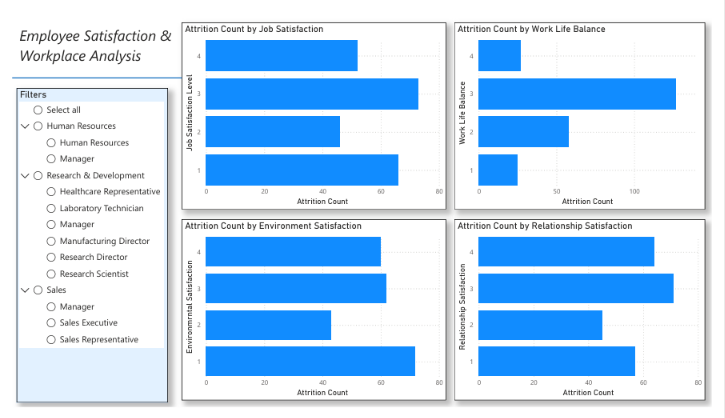

Layout of this report page (visuals, bound fields, positions):
{"tool":"powerbi","page":{"name":"Employee Satisfaction & Workplace Analysis","canvas":[1280,720],"ordinal":2},"visuals":[{"type":"clusteredBarChart","title":"Attrition Count by Job Satisfaction","fields":{"Category":["hr_analytics_db v_hr_analytics_data.JobSatisfaction"],"Y":["_Metrics.Attrition Count"]},"box":[310.5,17.2,483.6,342.2],"z":0},{"type":"clusteredBarChart","title":"Attrition Count by Work Life Balance","fields":{"Y":["_Metrics.Attrition Count"],"Category":["hr_analytics_db v_hr_analytics_data.WorkLifeBalance"]},"box":[808.6,17.2,459.8,342.2],"z":1},{"type":"clusteredBarChart","title":"Attrition Count by Environment Satisfaction","fields":{"Y":["_Metrics.Attrition Count"],"Category":["hr_analytics_db v_hr_analytics_data.EnvironmentSatisfaction"]},"box":[310.5,376.5,483.6,331.6],"z":2},{"type":"clusteredBarChart","title":"Attrition Count by Relationship Satisfaction","fields":{"Y":["_Metrics.Attrition Count"],"Category":["hr_analytics_db v_hr_analytics_data.RelationshipSatisfaction"]},"box":[808.6,376.5,459.8,331.6],"z":3},{"type":"listSlicer","title":"Filters","fields":{"Values":["hr_analytics_db v_hr_analytics_data.Department","hr_analytics_db v_hr_analytics_data.JobRole"]},"box":[7.9,137.4,277.5,574.7],"z":4},{"type":"textbox","box":[7.9,17.2,290.7,101.7],"z":5},{"type":"shape","box":[0,100.4,310.5,37],"z":6}]}

Visuals, with their boxes in screenshot pixels (x1, y1, x2, y2), scaled from the page's 1280x720 canvas onto the 725x418 screenshot:
"Attrition Count by Job Satisfaction" clusteredBarChart: pyautogui.locateOnScreen(176, 10, 450, 209)
"Attrition Count by Work Life Balance" clusteredBarChart: pyautogui.locateOnScreen(458, 10, 718, 209)
"Attrition Count by Environment Satisfaction" clusteredBarChart: pyautogui.locateOnScreen(176, 219, 450, 411)
"Attrition Count by Relationship Satisfaction" clusteredBarChart: pyautogui.locateOnScreen(458, 219, 718, 411)
"Filters" listSlicer: pyautogui.locateOnScreen(4, 80, 162, 413)
textbox: pyautogui.locateOnScreen(4, 10, 169, 69)
shape: pyautogui.locateOnScreen(0, 58, 176, 80)
